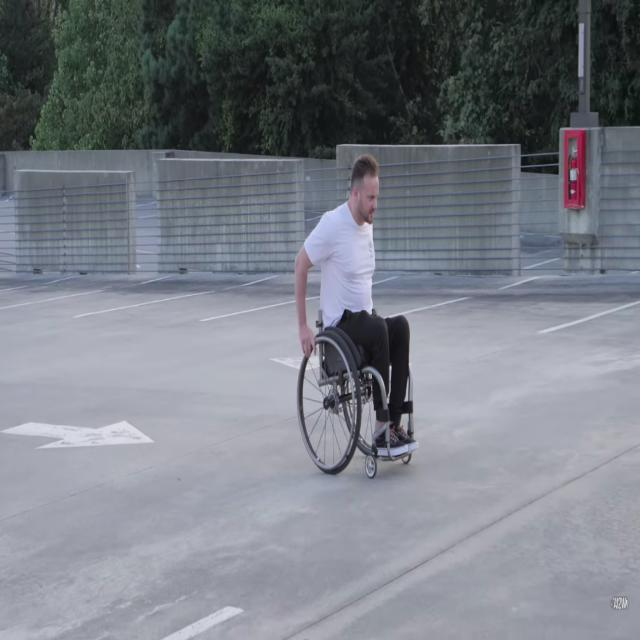wheelchairs: (300, 303, 413, 475)
